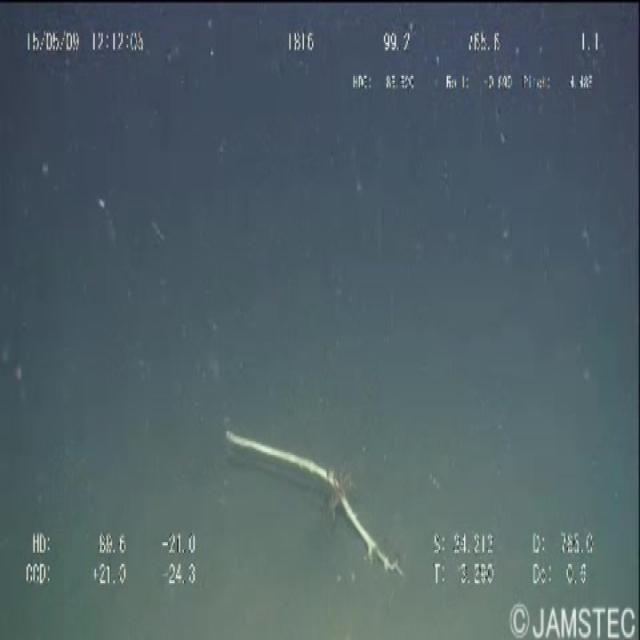Wood: (222, 398, 407, 594)
